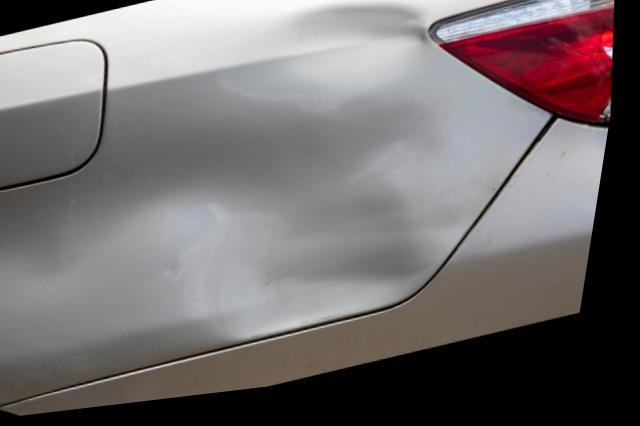dent: (0, 110, 446, 342), (263, 13, 427, 106)
lamp broken: (439, 0, 616, 139)
